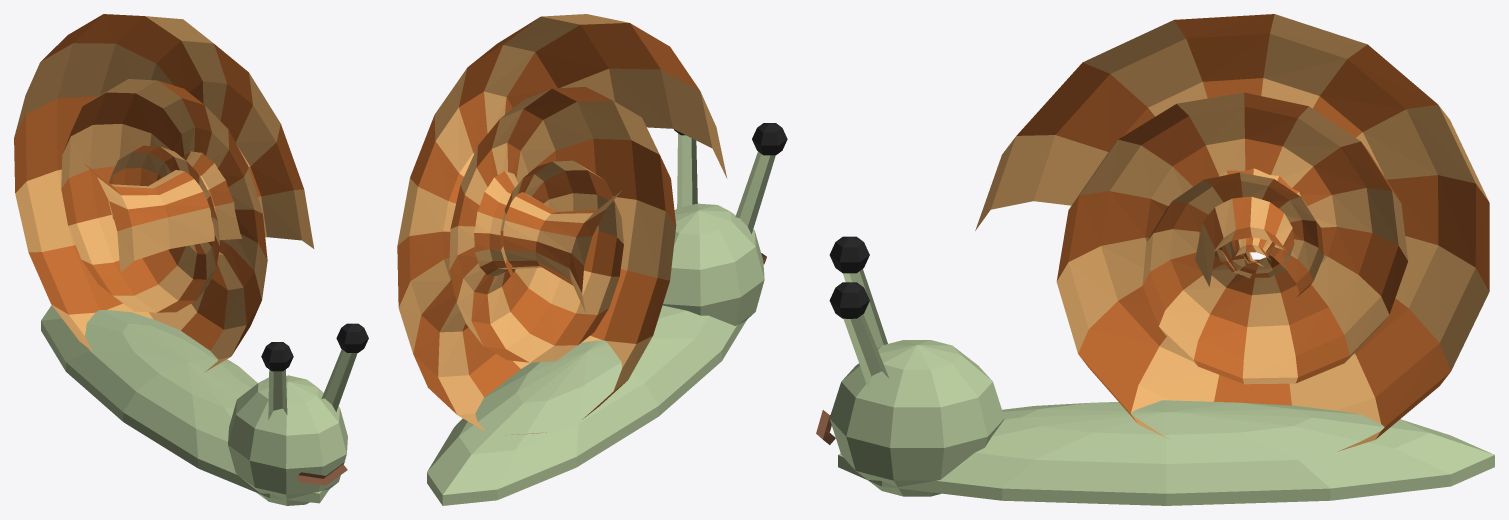
The model's file is snigel.glb.
3 renders of one model, left to right at view 1: azimuth 30°, elevation 25°; view 2: azimuth 150°, elevation 25°; view 3: azimuth 270°, elevation 25°, orthographic. The views are drawn at different scales.
Parts seen in each view (by area): view 1: snigel; view 2: snigel; view 3: snigel.
Boxes of the visible parts, <box> form: snigel: <box>14,14,368,505</box>; snigel: <box>397,14,787,505</box>; snigel: <box>816,14,1494,505</box>.
Size of the model in its own units: 0.36 by 0.7653 by 1.01.
